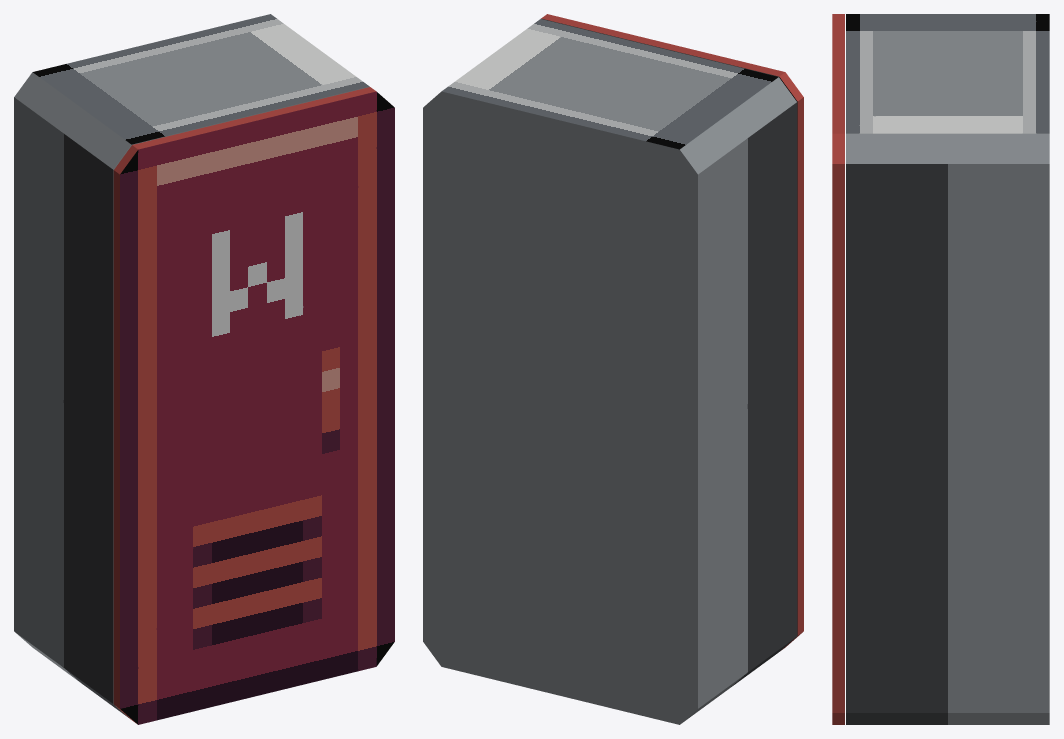
File: locker_rack.glb
3 renders of one model, left to right at view 1: azimuth 30°, elevation 25°; view 2: azimuth 150°, elevation 25°; view 3: azimuth 270°, elevation 25°, orthographic. The views are drawn at different scales.
Parts seen in each view (by area): view 1: Locker_Door, Locker_Body; view 2: Locker_Body, Locker_Door; view 3: Locker_Body, Locker_Door.
Boxes of the visible parts, left/top/right/bottom form: Locker_Door: left=113, top=87, right=394, bottom=724; Locker_Body: left=14, top=14, right=369, bottom=719; Locker_Body: left=423, top=19, right=796, bottom=724; Locker_Door: left=541, top=14, right=803, bottom=650; Locker_Body: left=846, top=14, right=1049, bottom=724; Locker_Door: left=832, top=14, right=844, bottom=724.
Size of the model in its own units: 0.9 by 1.8 by 0.6.
3 materials, 3 textured.
